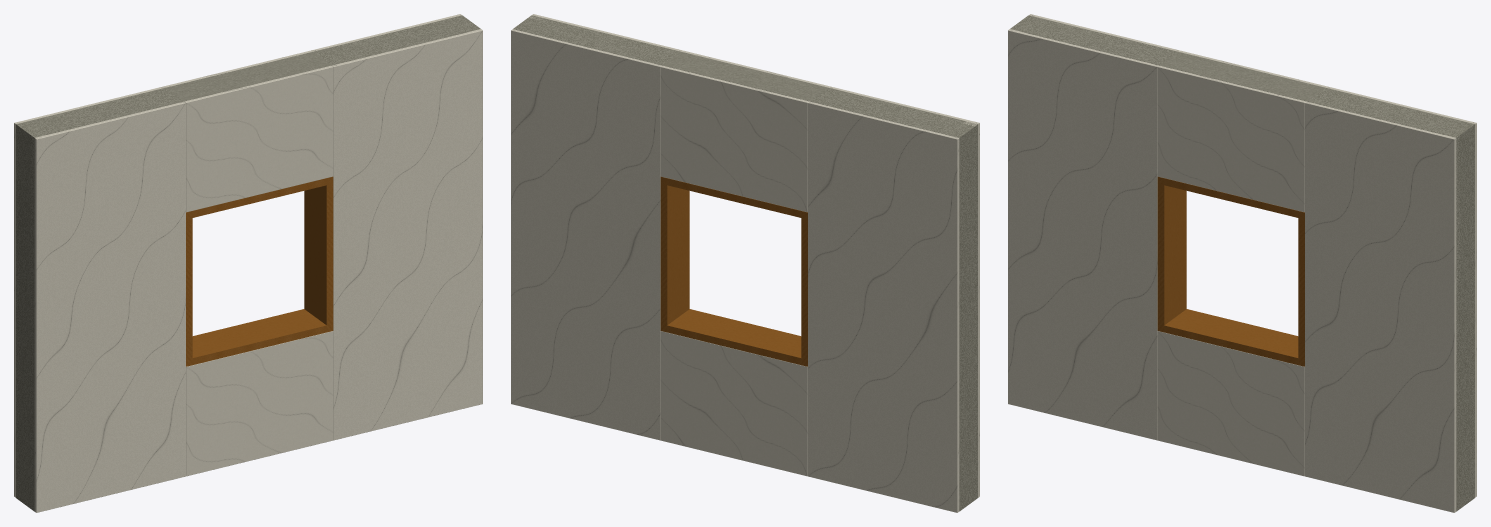
3 renders of one model, left to right at view 1: azimuth 30°, elevation 25°; view 2: azimuth 150°, elevation 25°; view 3: azimuth 330°, elevation 25°, orthographic.
Parts seen in each view (by area): view 1: LOD2__Replaceable marble facing panel, LOD2__Replaceable marble facing panel.002, LOD2__Replaceable marble facing panel.006, LOD2__Replaceable marble facing panel.004, LOD2__Bearing masonry wall segment, LOD2__Bronze reveal frame.001, LOD2__Bronze reveal frame.002, LOD2__Bearing masonry wall segment.001, LOD2__Bearing masonry wall segment.003, LOD2__Replaceable marble facing panel.001, LOD2__Bronze reveal frame, LOD2__Bronze reveal frame.003; view 2: LOD2__Replaceable marble facing panel.001, LOD2__Replaceable marble facing panel.003, LOD2__Replaceable marble facing panel.007, LOD2__Replaceable marble facing panel.005, LOD2__Bearing masonry wall segment, LOD2__Bronze reveal frame.001, LOD2__Bronze reveal frame.002, LOD2__Bearing masonry wall segment.001, LOD2__Bearing masonry wall segment.003, LOD2__Replaceable marble facing panel, LOD2__Bronze reveal frame, LOD2__Bronze reveal frame.003; view 3: LOD2__Replaceable marble facing panel.002, LOD2__Replaceable marble facing panel, LOD2__Replaceable marble facing panel.006, LOD2__Replaceable marble facing panel.004, LOD2__Bearing masonry wall segment.001, LOD2__Bronze reveal frame, LOD2__Bronze reveal frame.002, LOD2__Bearing masonry wall segment, LOD2__Bearing masonry wall segment.003, LOD2__Replaceable marble facing panel.003, LOD2__Bronze reveal frame.001, LOD2__Bronze reveal frame.003.
Part boxes in pixels (x1,y1,x2,y2): LOD2__Replaceable marble facing panel: (34, 101, 185, 512); LOD2__Replaceable marble facing panel.002: (332, 29, 482, 440); LOD2__Replaceable marble facing panel.006: (184, 65, 333, 212); LOD2__Replaceable marble facing panel.004: (186, 331, 333, 476); LOD2__Bearing masonry wall segment: (16, 87, 183, 511); LOD2__Bronze reveal frame.001: (304, 176, 333, 332); LOD2__Bronze reveal frame.002: (192, 309, 326, 364); LOD2__Bearing masonry wall segment.001: (313, 15, 480, 65); LOD2__Bearing masonry wall segment.003: (166, 52, 331, 101); LOD2__Replaceable marble facing panel.001: (14, 86, 164, 497); LOD2__Bronze reveal frame: (186, 211, 192, 366); LOD2__Bronze reveal frame.003: (192, 178, 326, 217); LOD2__Replaceable marble facing panel.001: (808, 101, 959, 512); LOD2__Replaceable marble facing panel.003: (511, 29, 661, 440); LOD2__Replaceable marble facing panel.007: (660, 65, 809, 212); LOD2__Replaceable marble facing panel.005: (660, 331, 807, 476); LOD2__Bearing masonry wall segment: (810, 87, 977, 511); LOD2__Bronze reveal frame.001: (660, 176, 689, 332); LOD2__Bronze reveal frame.002: (667, 309, 801, 364); LOD2__Bearing masonry wall segment.001: (513, 15, 680, 65); LOD2__Bearing masonry wall segment.003: (662, 52, 827, 101); LOD2__Replaceable marble facing panel: (829, 86, 979, 497); LOD2__Bronze reveal frame: (801, 211, 807, 366); LOD2__Bronze reveal frame.003: (667, 178, 801, 217); LOD2__Replaceable marble facing panel.002: (1305, 101, 1456, 512); LOD2__Replaceable marble facing panel: (1008, 29, 1158, 440); LOD2__Replaceable marble facing panel.006: (1157, 65, 1306, 212); LOD2__Replaceable marble facing panel.004: (1157, 331, 1304, 476); LOD2__Bearing masonry wall segment.001: (1307, 87, 1474, 511); LOD2__Bronze reveal frame: (1157, 176, 1186, 332); LOD2__Bronze reveal frame.002: (1164, 309, 1298, 364); LOD2__Bearing masonry wall segment: (1010, 15, 1177, 65); LOD2__Bearing masonry wall segment.003: (1159, 52, 1324, 101); LOD2__Replaceable marble facing panel.003: (1326, 86, 1476, 497); LOD2__Bronze reveal frame.001: (1298, 211, 1304, 366); LOD2__Bronze reveal frame.003: (1164, 178, 1298, 217).
Bounding box in the file's own units: 4 × 3.2 × 0.35.
3 materials, 3 textured.
